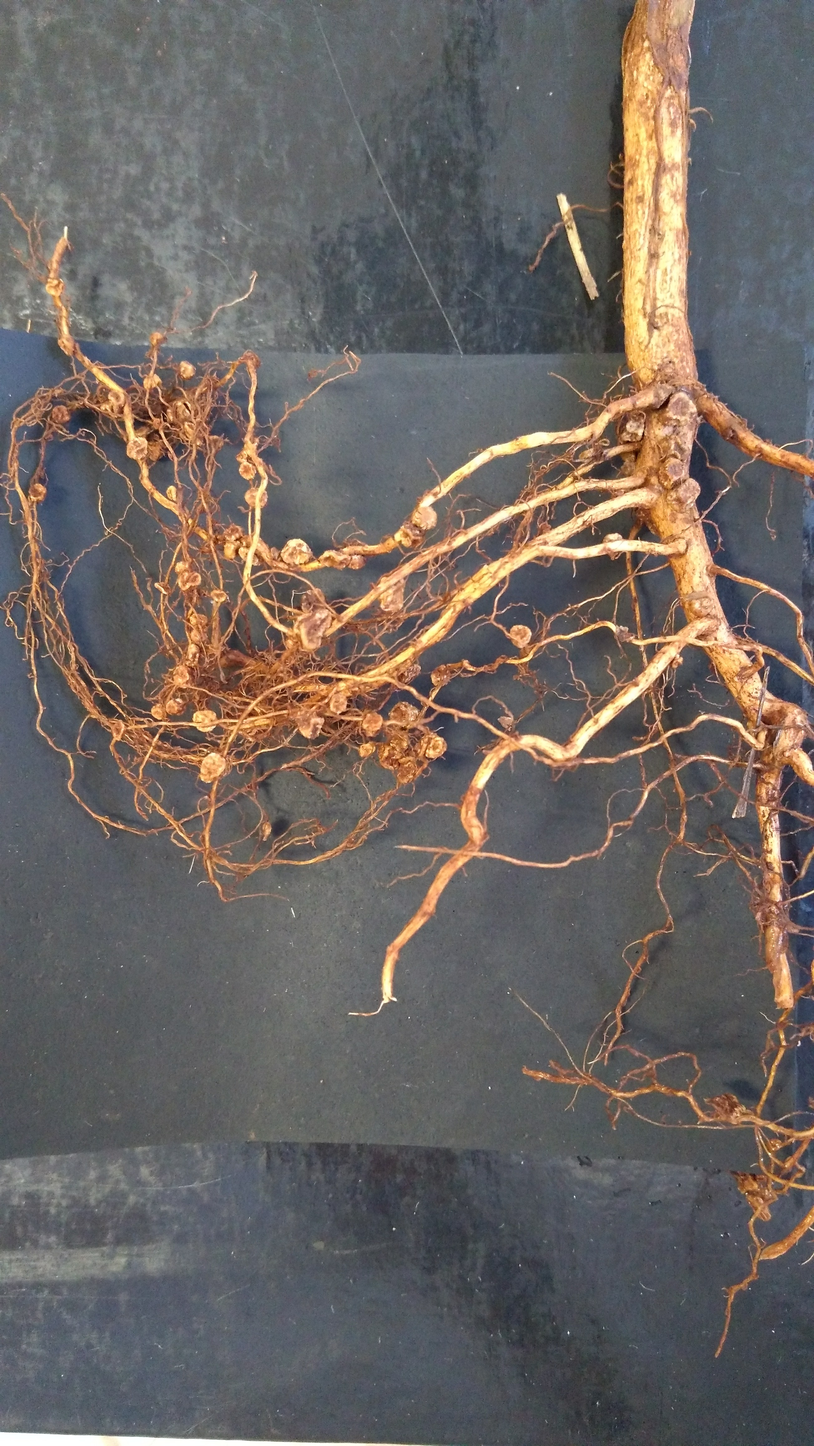nodule: (291, 608, 336, 653), (747, 1173, 779, 1222), (378, 567, 409, 616), (664, 477, 704, 512), (280, 534, 315, 569), (664, 390, 699, 425), (386, 699, 421, 733), (657, 455, 690, 491), (197, 751, 230, 785), (291, 715, 326, 743), (299, 584, 330, 615), (407, 504, 441, 531), (316, 547, 352, 572), (419, 732, 450, 761), (391, 663, 422, 692), (601, 530, 626, 562), (191, 709, 221, 735), (243, 484, 270, 512), (617, 417, 645, 443), (124, 435, 150, 463), (396, 755, 418, 787), (508, 623, 533, 651), (377, 743, 400, 772), (427, 663, 452, 689), (392, 525, 415, 550), (171, 663, 191, 691), (49, 403, 73, 426), (177, 571, 203, 592), (329, 693, 352, 716), (360, 710, 384, 732), (237, 545, 261, 567), (171, 397, 193, 421), (181, 642, 201, 667), (45, 276, 65, 301), (27, 482, 49, 504), (56, 333, 76, 357), (221, 521, 245, 541), (234, 445, 260, 463), (236, 460, 258, 481), (165, 697, 187, 718), (347, 553, 370, 572), (222, 540, 242, 561), (143, 372, 165, 391), (110, 719, 126, 744), (105, 387, 126, 406), (180, 359, 198, 381), (356, 741, 376, 760), (202, 434, 223, 452), (98, 400, 120, 417), (208, 587, 228, 605), (148, 440, 163, 463), (150, 702, 168, 721), (188, 612, 208, 629), (388, 737, 409, 753), (620, 459, 637, 478), (154, 580, 174, 596), (182, 420, 198, 440), (578, 448, 598, 463), (187, 627, 208, 641), (165, 484, 179, 504), (174, 560, 189, 575), (670, 655, 684, 670), (767, 1137, 783, 1150), (149, 332, 163, 346), (596, 437, 611, 448), (152, 417, 161, 432)
